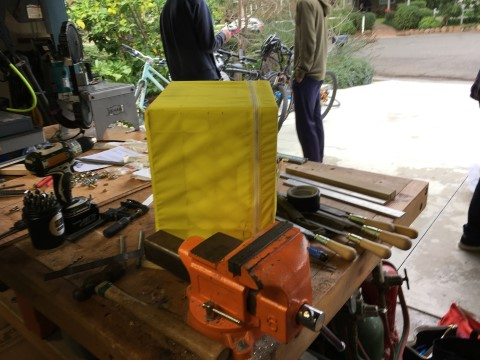cube: (145, 79, 279, 247)
